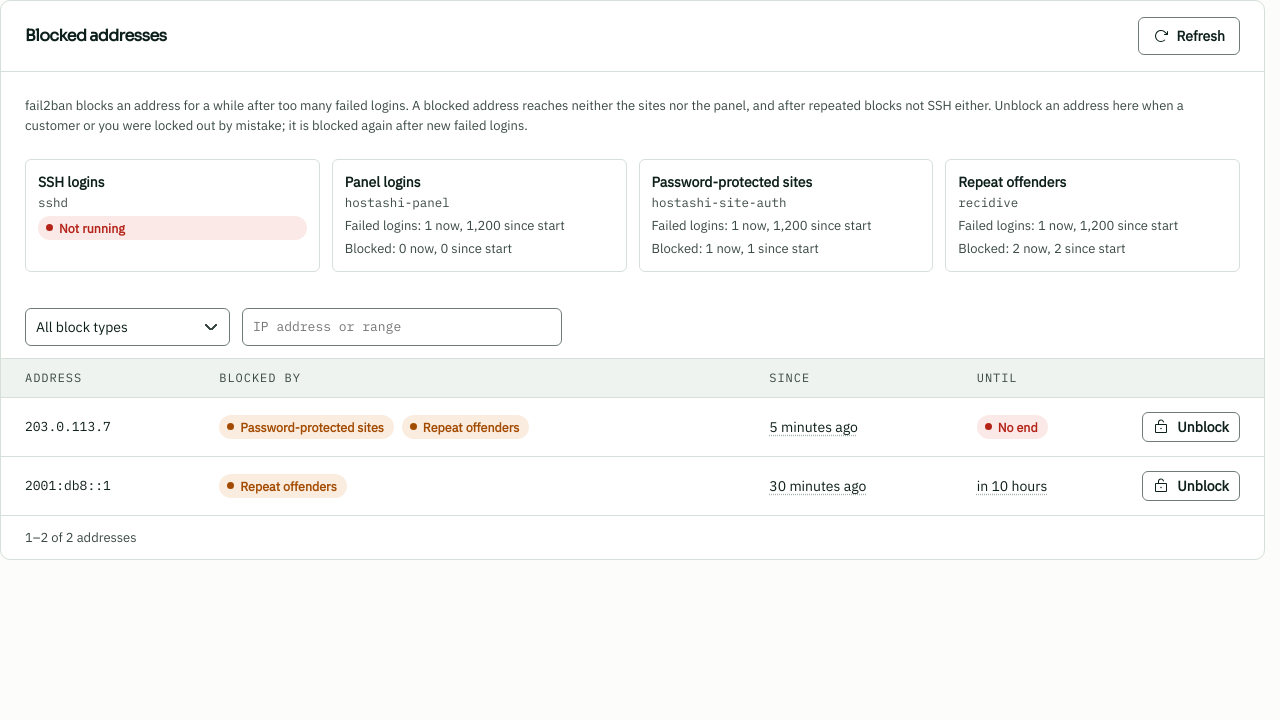
it: BlockedAddressesCard › filters by block type and address on the server
Select "Repeat offenders" in the dropdown named "Block type" at [128, 327], box [25,308,230,346]
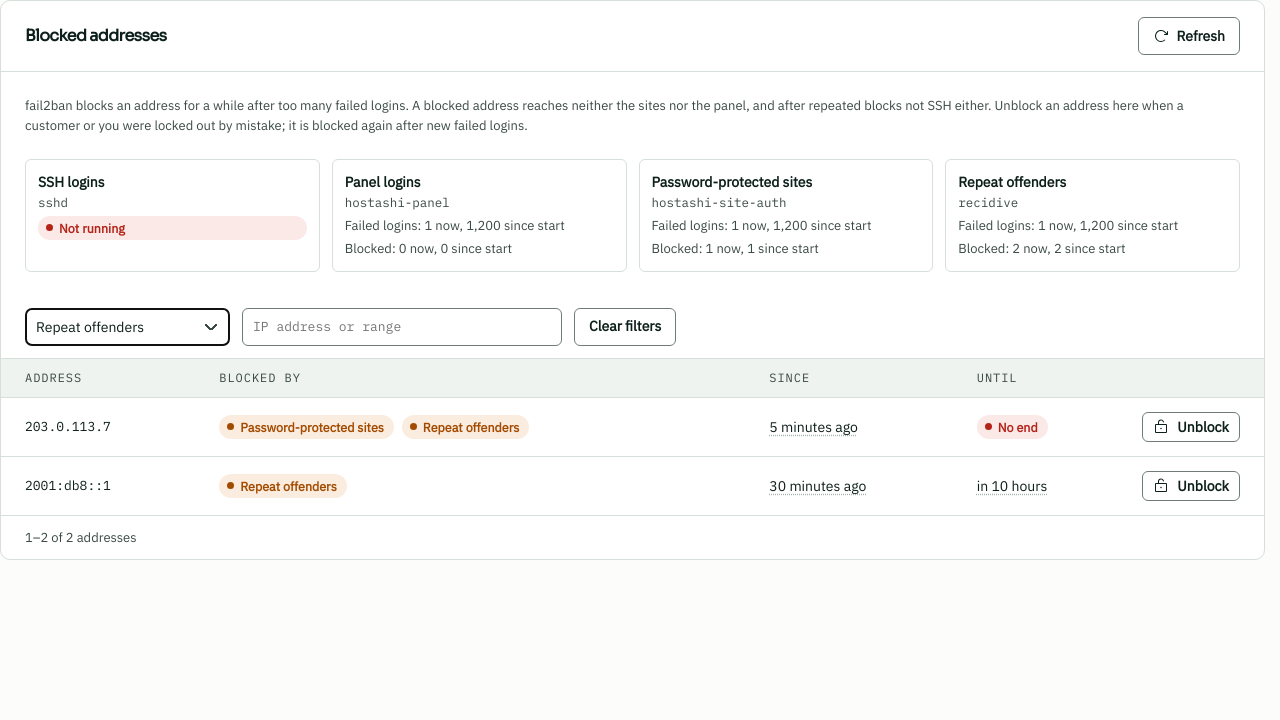
Expected: the button "Clear filters" is shown, [574,308,676,346]
Type "2001:db8::/32" into the search field labelled "IP address".
click(402, 327); type("2001:db8::/32")  # box [242,308,562,346]
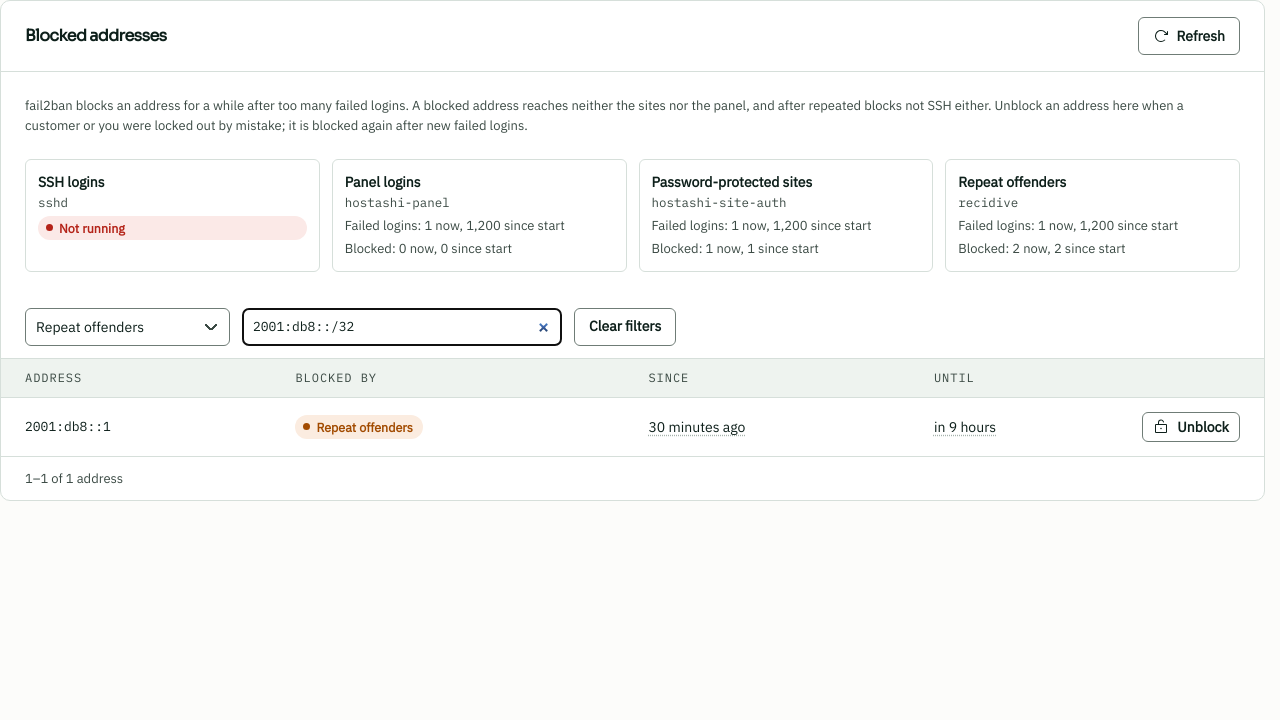
Expected: the text "1–1 of 1 address" is shown, [25,469,123,488]
Replace the text in the search field named "IP address" with "10." at [402, 327], box [242,308,562,346]
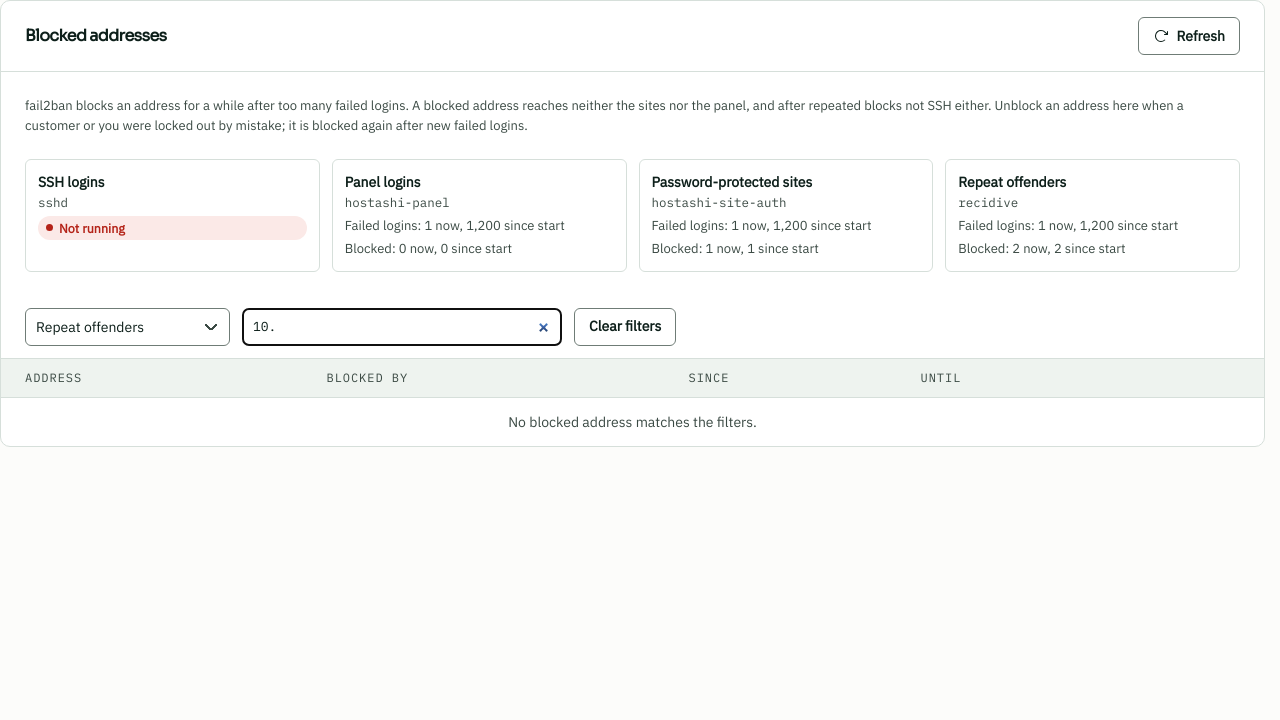
Expected: the text "No blocked address matches the filters." is shown, [1,397,1264,446]
Click the button "Clear filters".
click(625, 327)  # box [574,308,676,346]
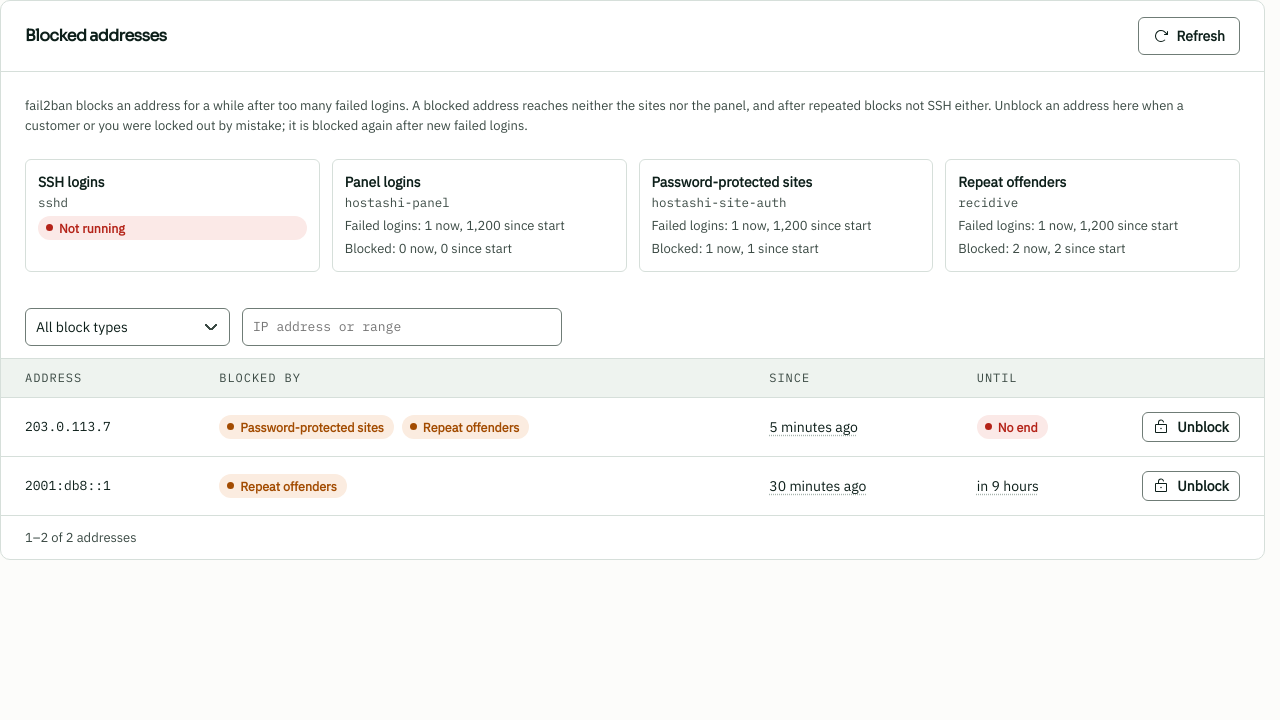
Expected: the text "1–2 of 2 addresses" is shown, [25,528,137,547]
